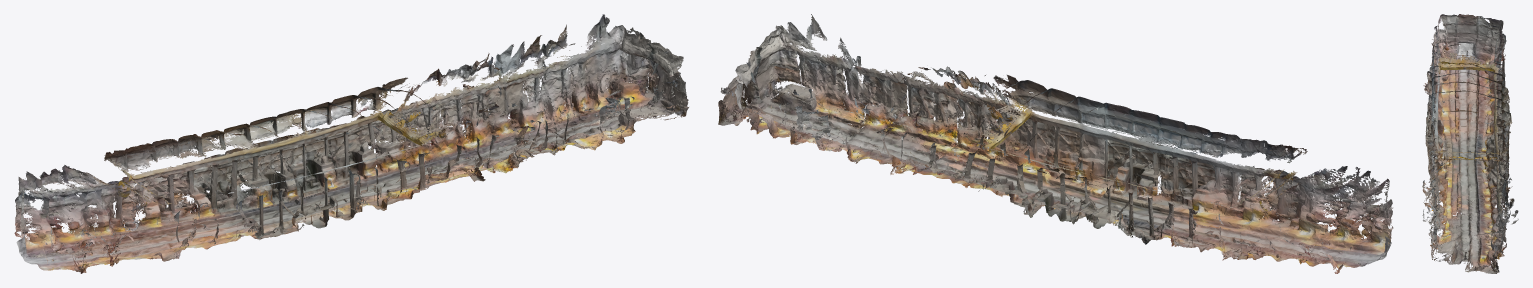
Rendered from liteyny-ceh.glb.
3 renders of one model, left to right at view 1: azimuth 30°, elevation 25°; view 2: azimuth 150°, elevation 25°; view 3: azimuth 270°, elevation 25°, orthographic. The views are drawn at different scales.
Visible parts, largest first — view 1: liteyny-ceh; view 2: liteyny-ceh; view 3: liteyny-ceh.
Boxes of the visible parts, x1,y1,x2,y2 form: liteyny-ceh: (14, 14, 688, 273); liteyny-ceh: (718, 14, 1393, 273); liteyny-ceh: (1422, 14, 1518, 273).
Size of the model in its own units: 50.62 by 7.27 by 9.47.
